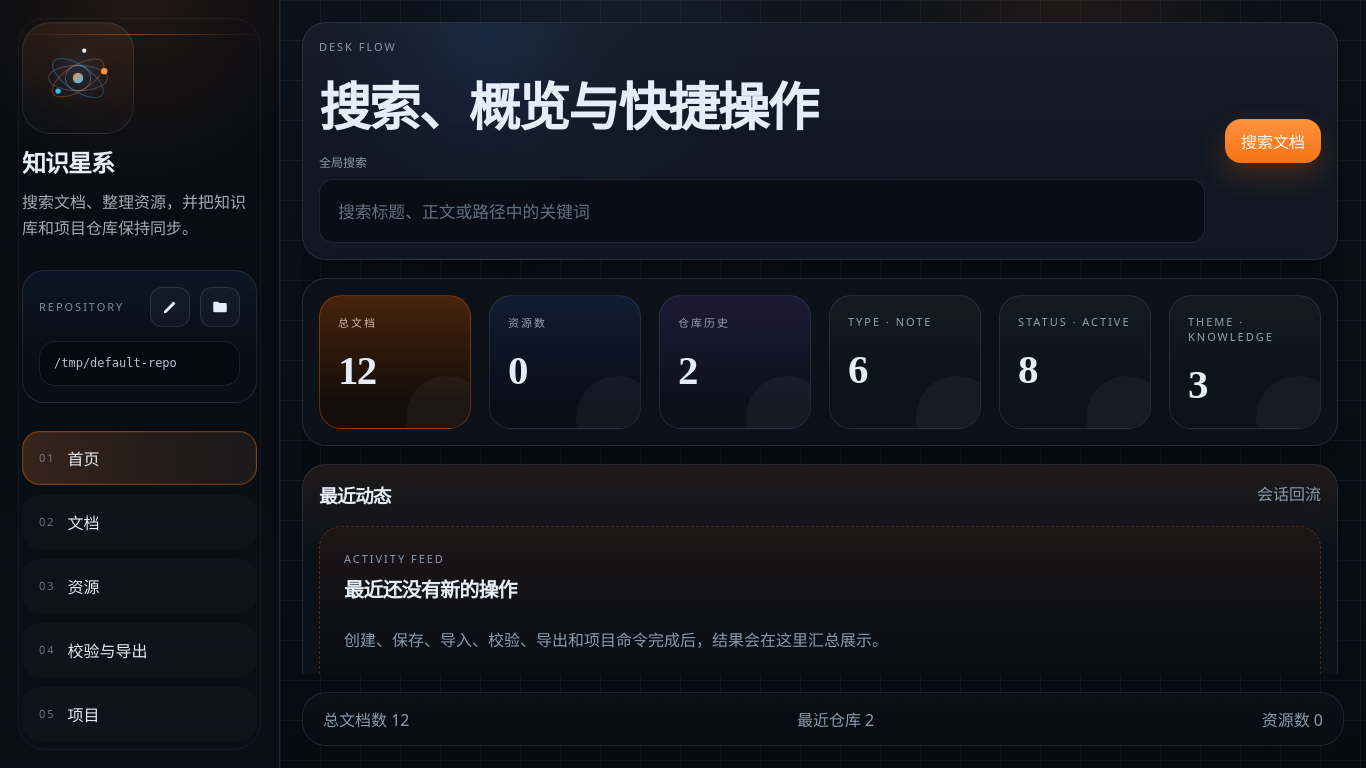
Test case: App › opens an imported migration document from the result panel
The image size is (1366, 768).
Expected: the text "/tmp/default-repo" is shown, [39, 341, 240, 386]
Click the button "03 资源" at (140, 586), box [22, 559, 257, 613]
(page scrolled)
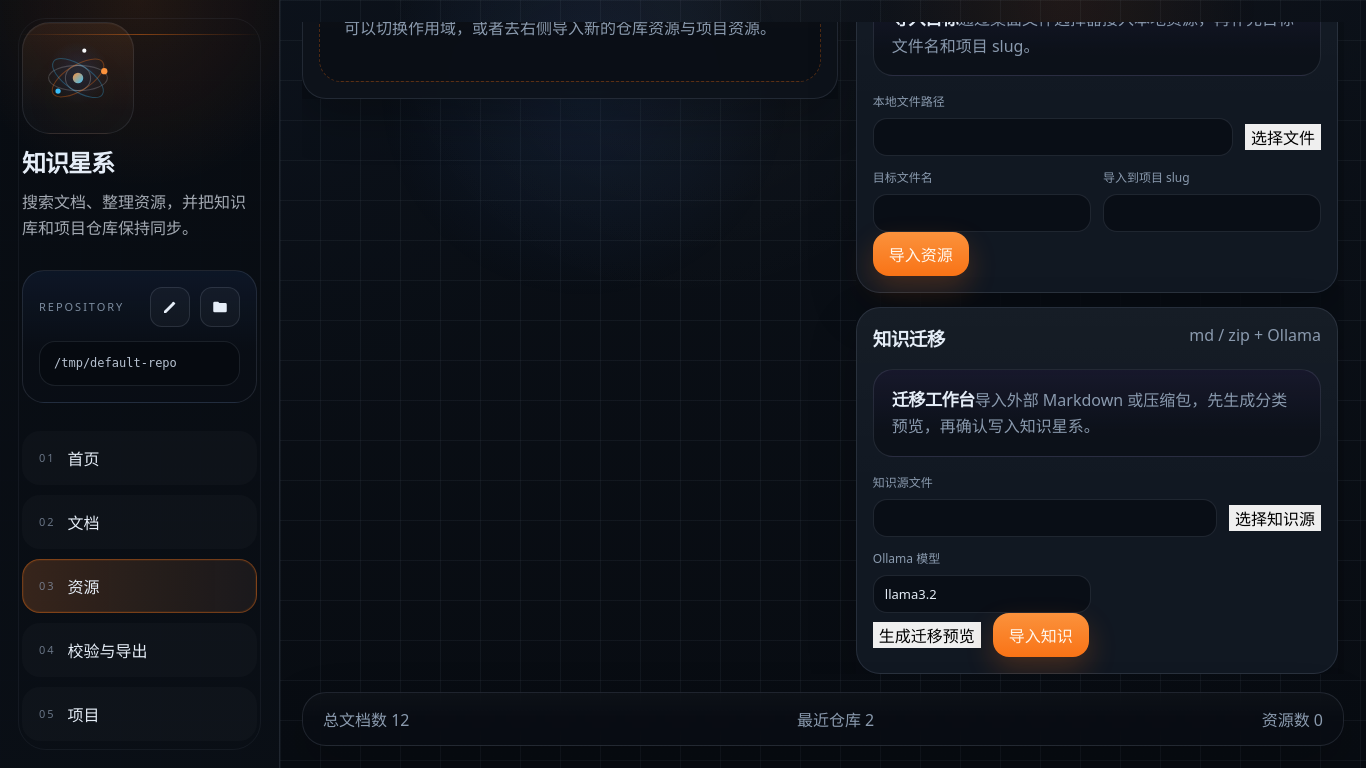
Click the button "选择知识源" at (1275, 518), box [1229, 505, 1321, 531]
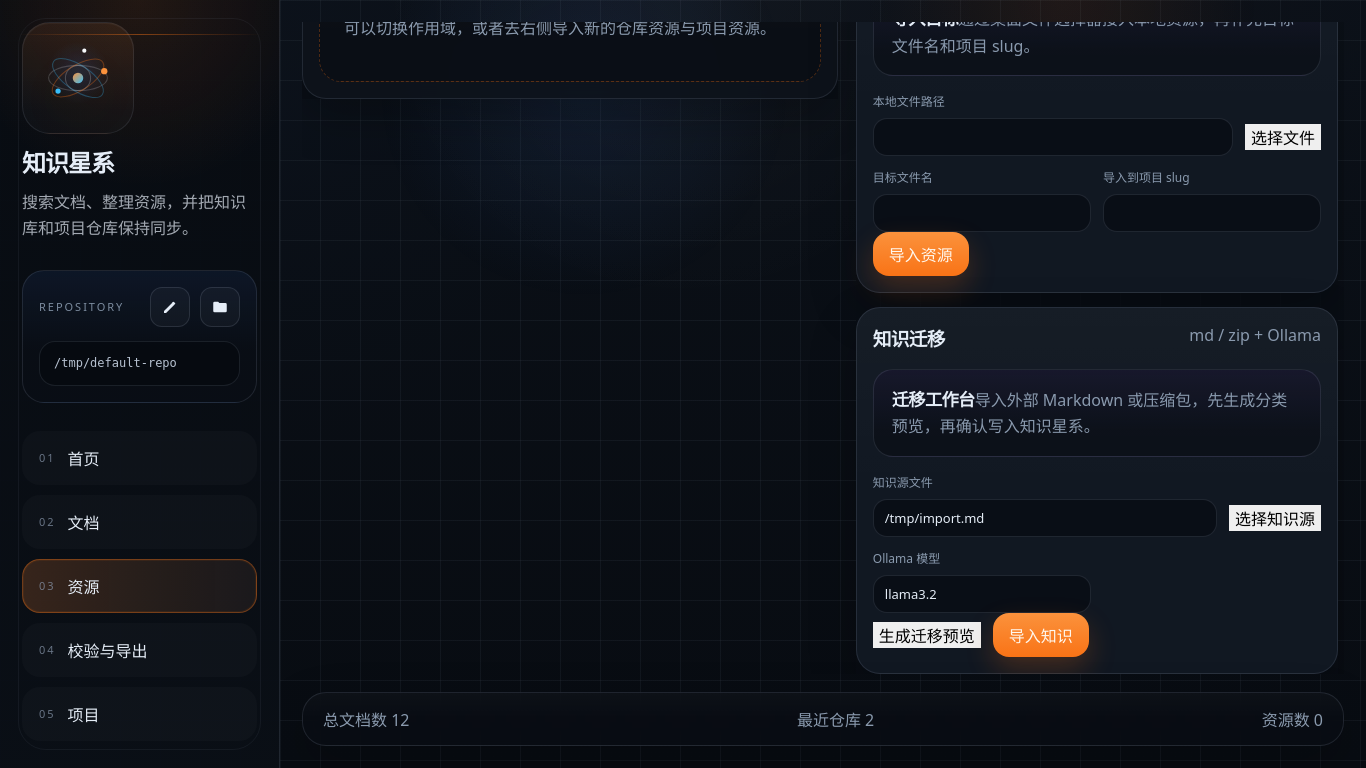
Expected: the field showing "/tmp/import.md" is shown, [873, 499, 1217, 537]
Click the button "生成迁移预览" at (927, 635), box [873, 622, 981, 648]
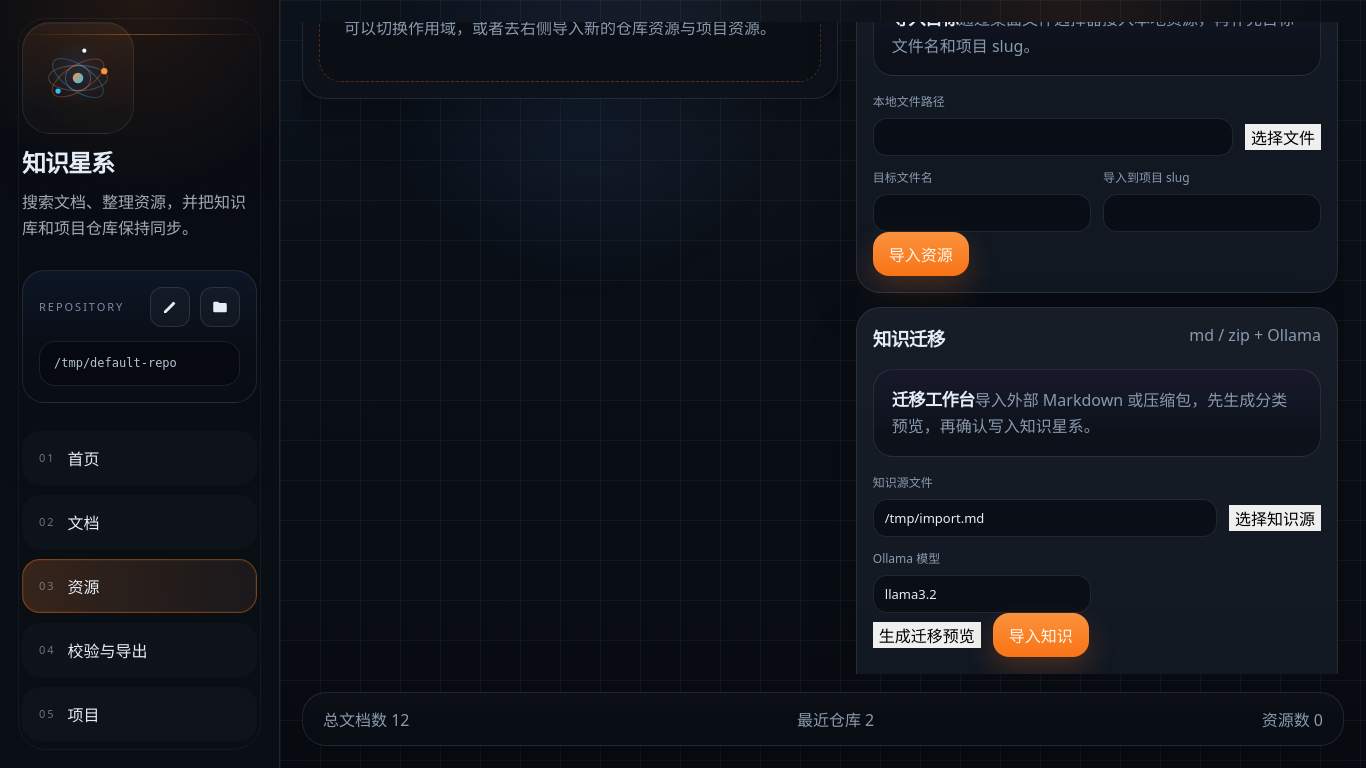
Click the button "导入知识" at (1041, 635), box [993, 613, 1089, 657]
(page scrolled)
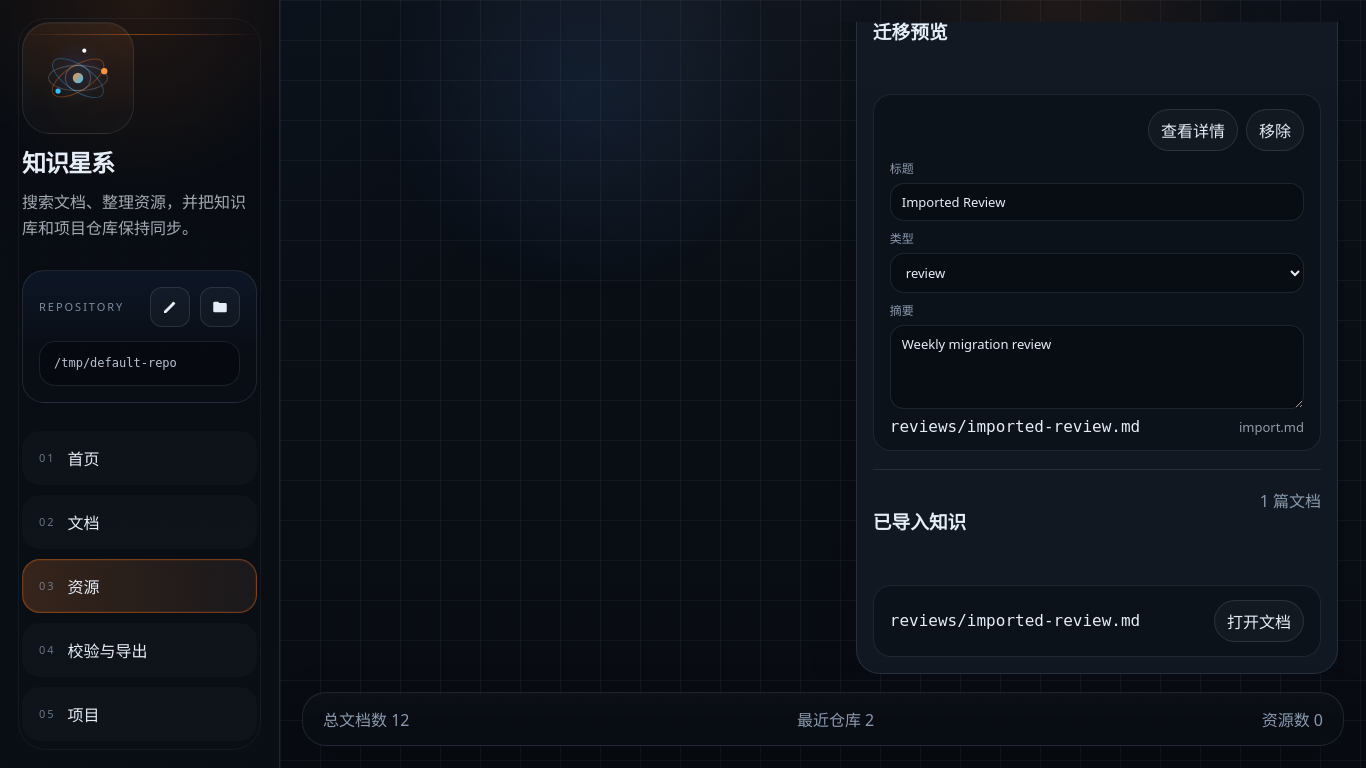
Expected: the heading "已导入知识" is shown, [873, 507, 966, 534]
Click the button with aria-label "打开文档 reviews/imported-review.md" at (1259, 621), box [1214, 600, 1304, 642]
(page scrolled)
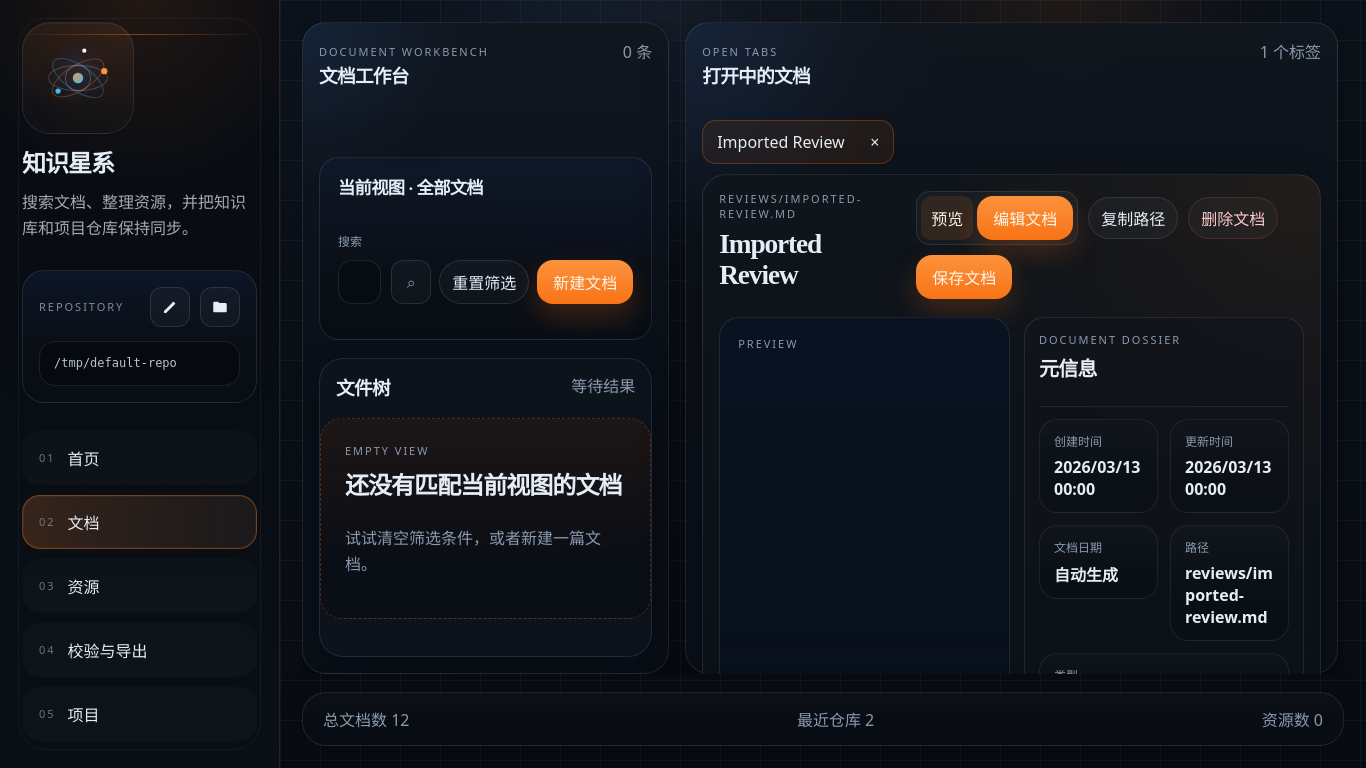
Expected: the 1st text "reviews/imported-review.md" is shown, [719, 191, 862, 221]
Expected: the button with aria-label "切换到标签 Imported Review" is shown, [707, 125, 855, 159]
